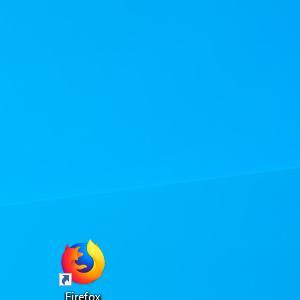firefox: (59, 239, 106, 286)
